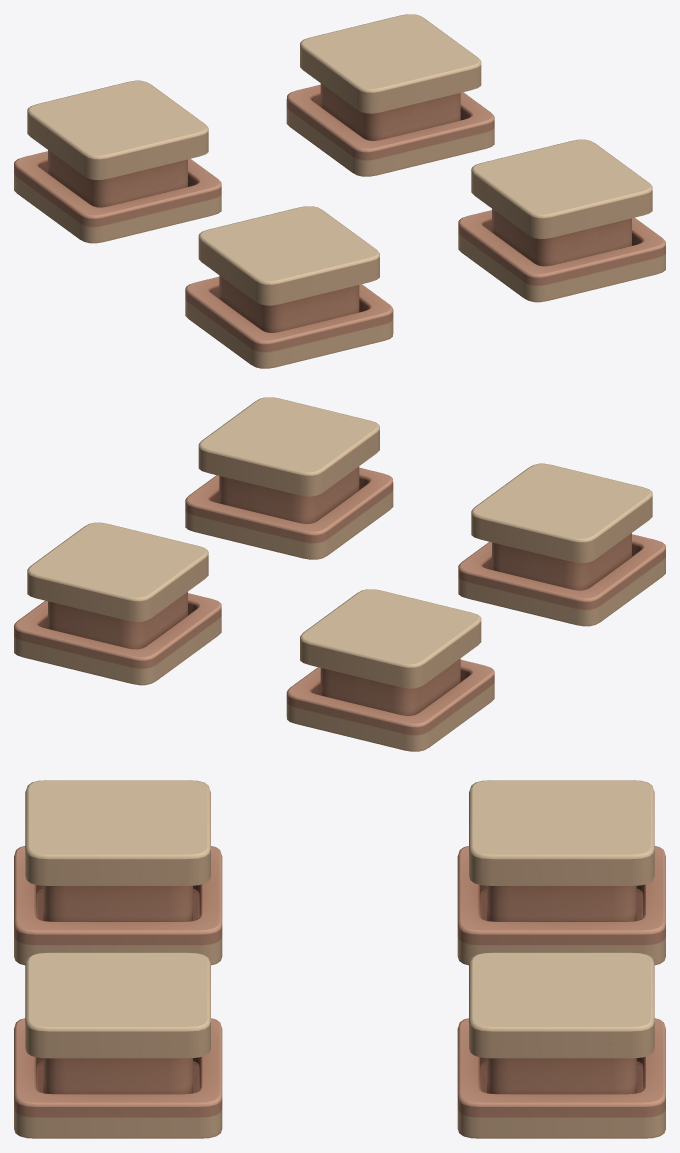
Rendered from Props.fbx.
3 views of the same model, one above another, from view 1: azimuth 30°, elevation 25°; view 2: azimuth 150°, elevation 25°; view 3: azimuth 270°, elevation 25° (orthographic). The views are drawn at different scales.
Parts seen in each view (by area): view 1: Box (1), Box (2), Box, Box (3); view 2: Box, Box (3), Box (1), Box (2); view 3: Box, Box (1), Box (2), Box (3).
Boxes of the visible parts, box(x1,y1,x2,y2) form: Box (1): box(286, 14, 494, 176); Box (2): box(185, 206, 393, 368); Box: box(458, 139, 665, 302); Box (3): box(14, 80, 221, 243); Box: box(185, 397, 393, 559); Box (3): box(286, 589, 494, 751); Box (1): box(14, 522, 221, 685); Box (2): box(458, 463, 665, 626); Box: box(14, 952, 222, 1138); Box (1): box(457, 952, 665, 1138); Box (2): box(14, 780, 222, 965); Box (3): box(457, 780, 665, 965).
Size of the model in its own units: 26.62 by 5 by 28.17.
1 material, 1 textured.
